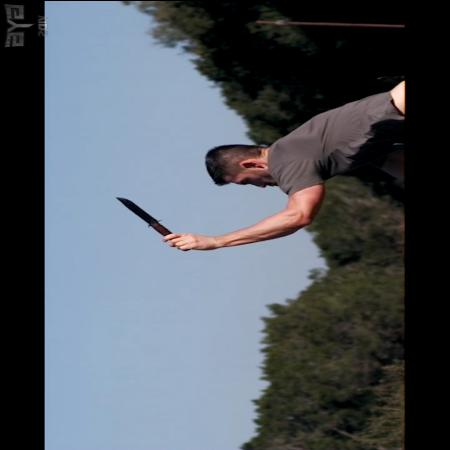long weapon: (107, 192, 198, 253)
